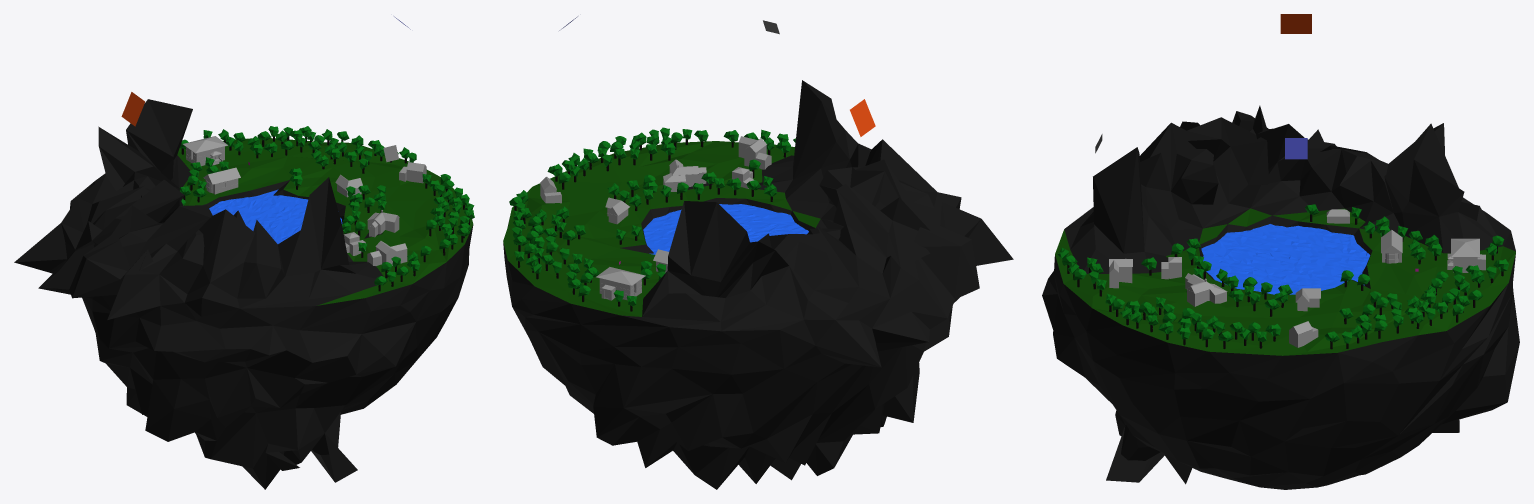
File: ile.obj
The picture shows the model from 3 angles, left to right: view 1: azimuth 30°, elevation 25°; view 2: azimuth 150°, elevation 25°; view 3: azimuth 270°, elevation 25°; orthographic projection. The views are drawn at different scales.
Visible parts, largest first — view 1: planet, water, House_8, House_18, House_28, House_42; view 2: planet, water, House_8, House_42, House_28, DirectionLight; view 3: planet, water, House_8, House_42, House_18, DirectionLight, House_28, House_37, House_41.
Part boxes in pixels (bbox=[...]): planet: bbox=[14, 99, 473, 489]; water: bbox=[209, 189, 342, 243]; House_8: bbox=[182, 136, 227, 166]; House_18: bbox=[203, 167, 240, 194]; House_28: bbox=[367, 241, 407, 265]; House_42: bbox=[367, 210, 399, 237]; planet: bbox=[503, 80, 1013, 489]; water: bbox=[643, 204, 808, 254]; House_8: bbox=[596, 267, 645, 300]; House_42: bbox=[663, 159, 706, 191]; House_28: bbox=[738, 136, 771, 169]; DirectionLight: bbox=[850, 99, 875, 136]; planet: bbox=[1042, 105, 1519, 489]; water: bbox=[1201, 224, 1370, 294]; House_8: bbox=[1447, 238, 1485, 272]; House_42: bbox=[1185, 273, 1227, 306]; House_18: bbox=[1381, 230, 1402, 263]; DirectionLight: bbox=[1280, 14, 1311, 33]; House_28: bbox=[1109, 258, 1132, 288]; House_37: bbox=[1289, 321, 1318, 347]; House_41: bbox=[1295, 288, 1320, 311].
Size of the model in its own units: 154 by 148 by 144.
